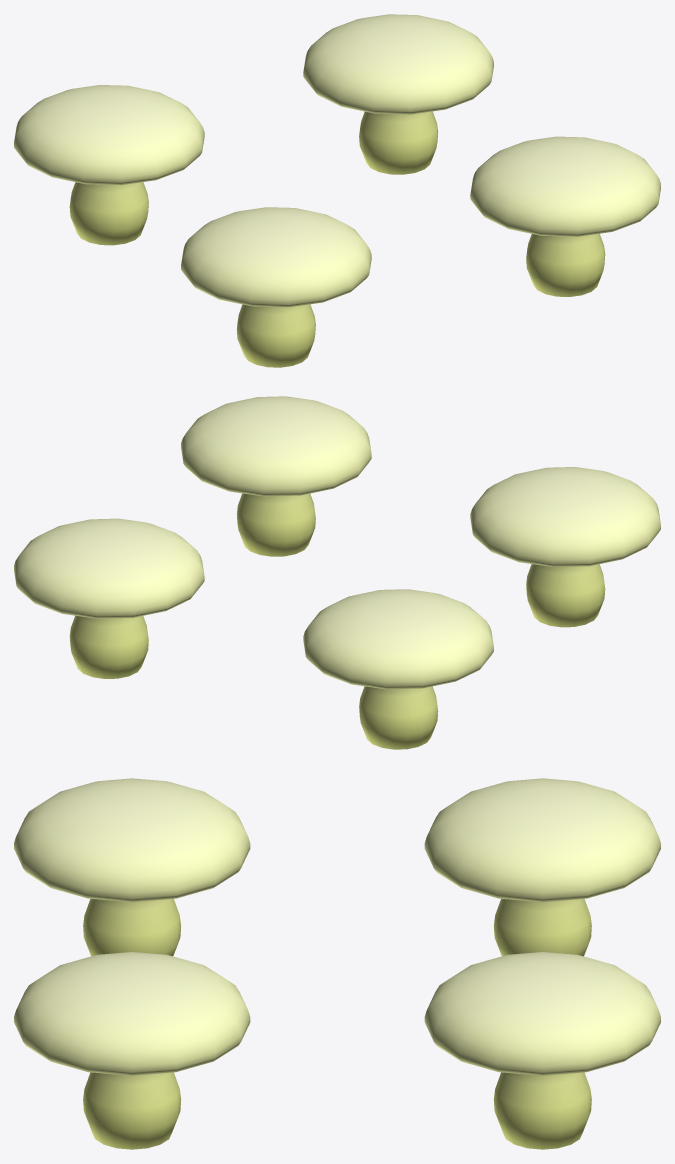
Rendered from Farm_Crop_Mashroom_01_Step_03.fbx.
3 renders of one model, top to bottom at view 1: azimuth 30°, elevation 25°; view 2: azimuth 150°, elevation 25°; view 3: azimuth 270°, elevation 25°, orthographic. The views are drawn at different scales.
Visible parts, largest first — view 1: Farm_Crop_Mashroom_01_Step_03; view 2: Farm_Crop_Mashroom_01_Step_03; view 3: Farm_Crop_Mashroom_01_Step_03.
Boxes of the visible parts, x1,y1,x2,y2 form: Farm_Crop_Mashroom_01_Step_03: (14,14,660,367); Farm_Crop_Mashroom_01_Step_03: (14,396,660,749); Farm_Crop_Mashroom_01_Step_03: (14,778,660,1149).
Size of the model in its own units: 158 by 41.91 by 158.
